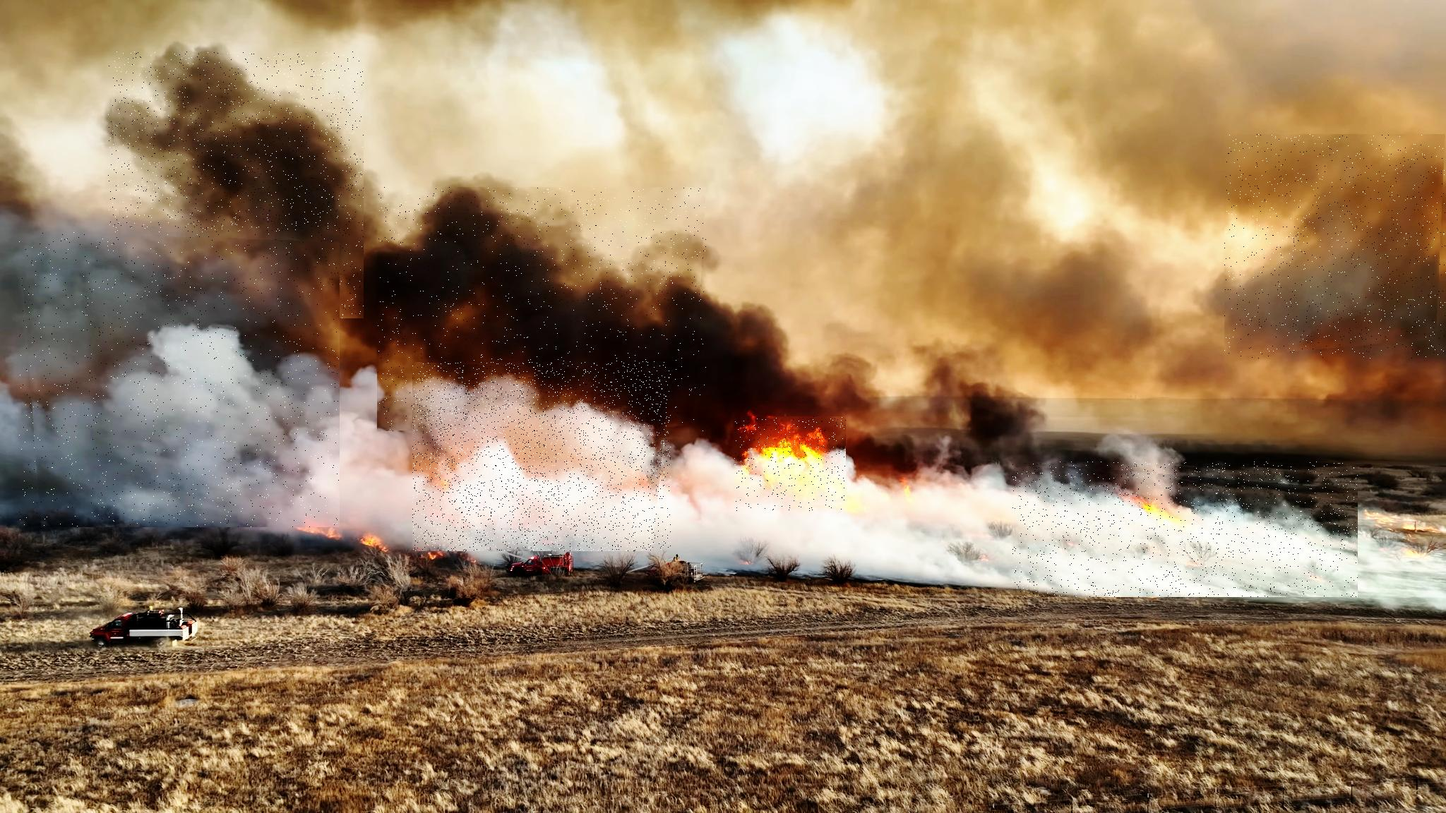fire: (734, 416, 846, 511)
smoke: (19, 232, 340, 527), (377, 187, 706, 431), (108, 52, 364, 318), (1224, 134, 1446, 359), (412, 362, 671, 551), (1012, 462, 1358, 597)
